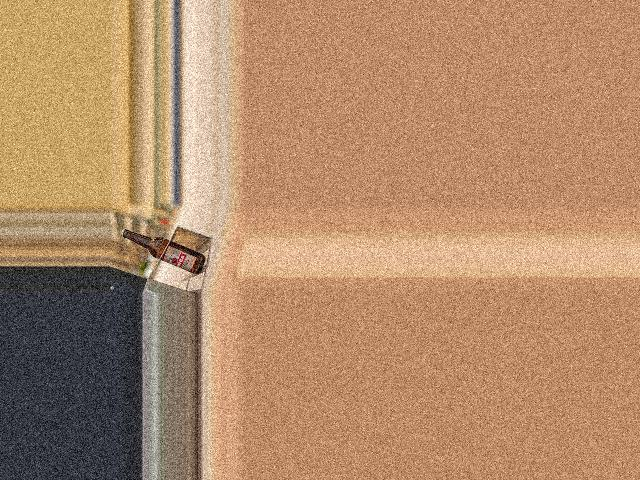beer: (120, 228, 205, 275)
